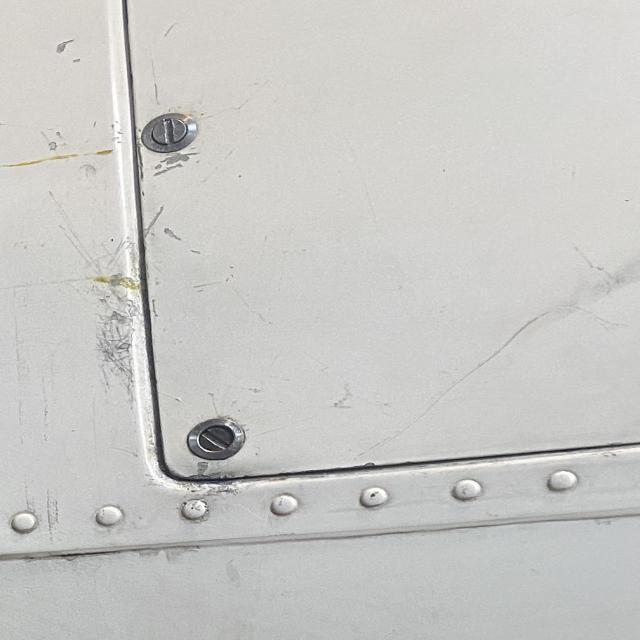Paint-off: (175, 447, 251, 509), (137, 134, 206, 190), (38, 120, 114, 160), (36, 19, 90, 64)
Scratch: (395, 305, 560, 440), (70, 236, 150, 404), (0, 121, 6, 126)
